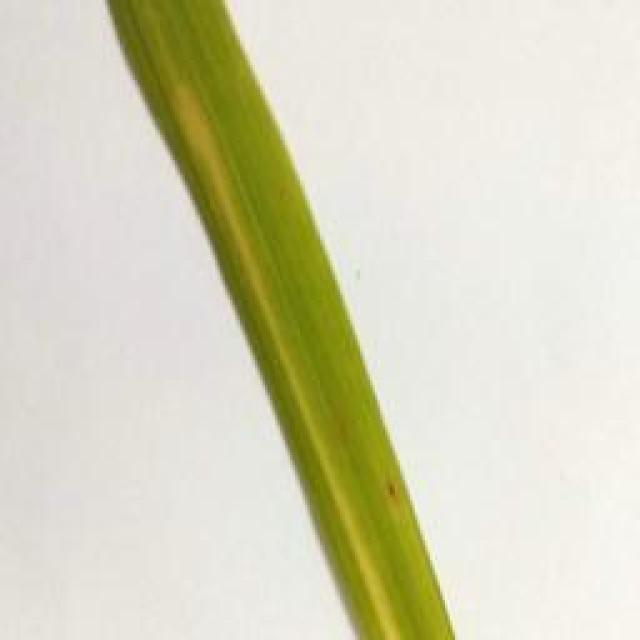Bacterial_Blight: (160, 68, 407, 640)
Brown_Spot: (386, 479, 408, 505)
